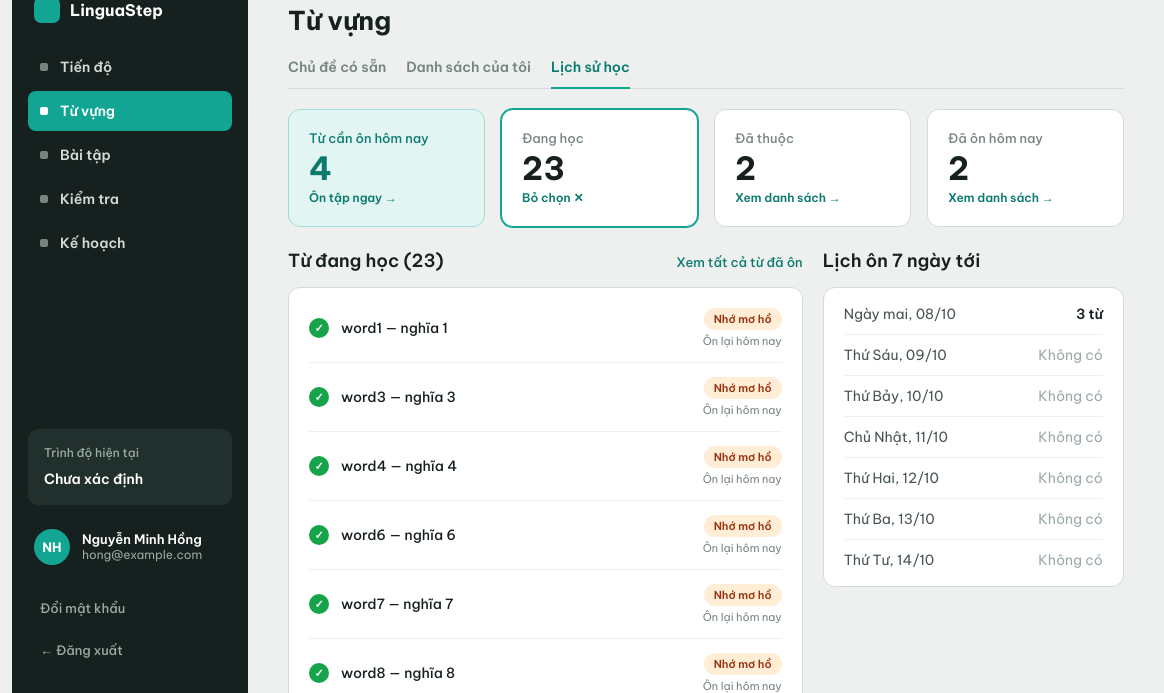
Test: history tab › shows the words being learned and the words reviewed today, from the URL or a click
Expected: the text "word1" is shown, top-left (341, 319), bottom-right (382, 337)
Expected: the text "word2" is not shown
Click the link with aria-label "Đã ôn hôm nay: 2 từ. Xem danh sách" at (1026, 168), box top-left (927, 109), bottom-right (1124, 227)
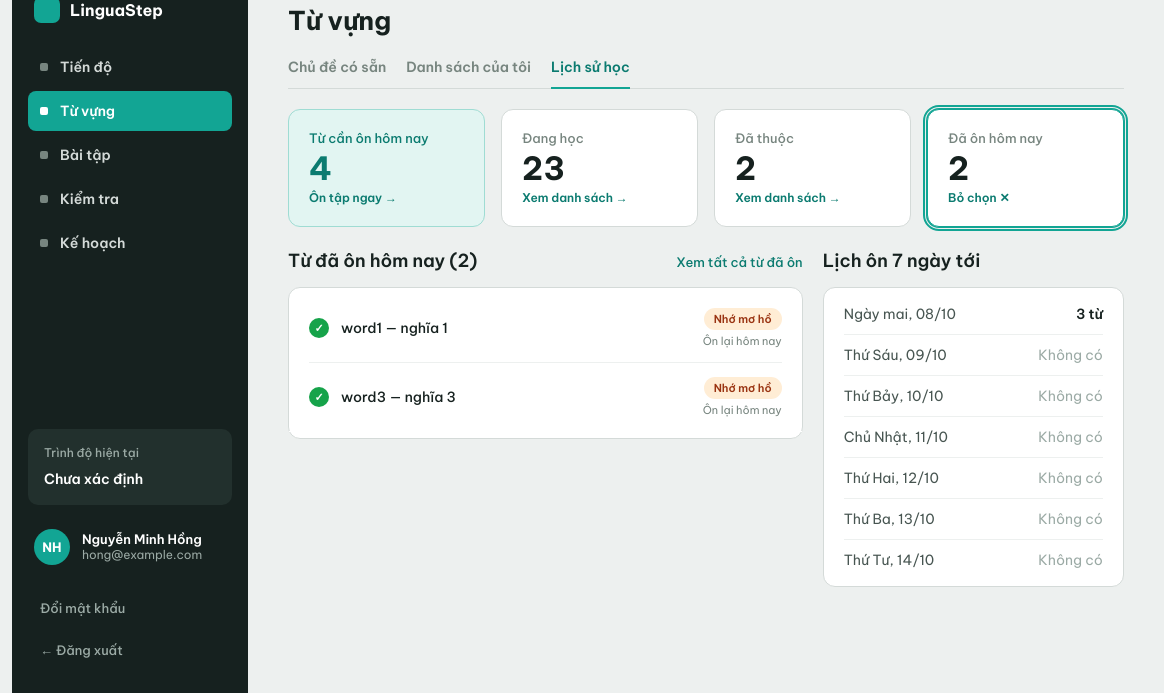
Expected: the text "word1" is shown, top-left (341, 319), bottom-right (382, 337)
Now the text "word4" is gone
Click the link "Xem tất cả từ đã ôn" at (739, 262), box top-left (676, 254), bottom-right (803, 270)
(page scrolled)
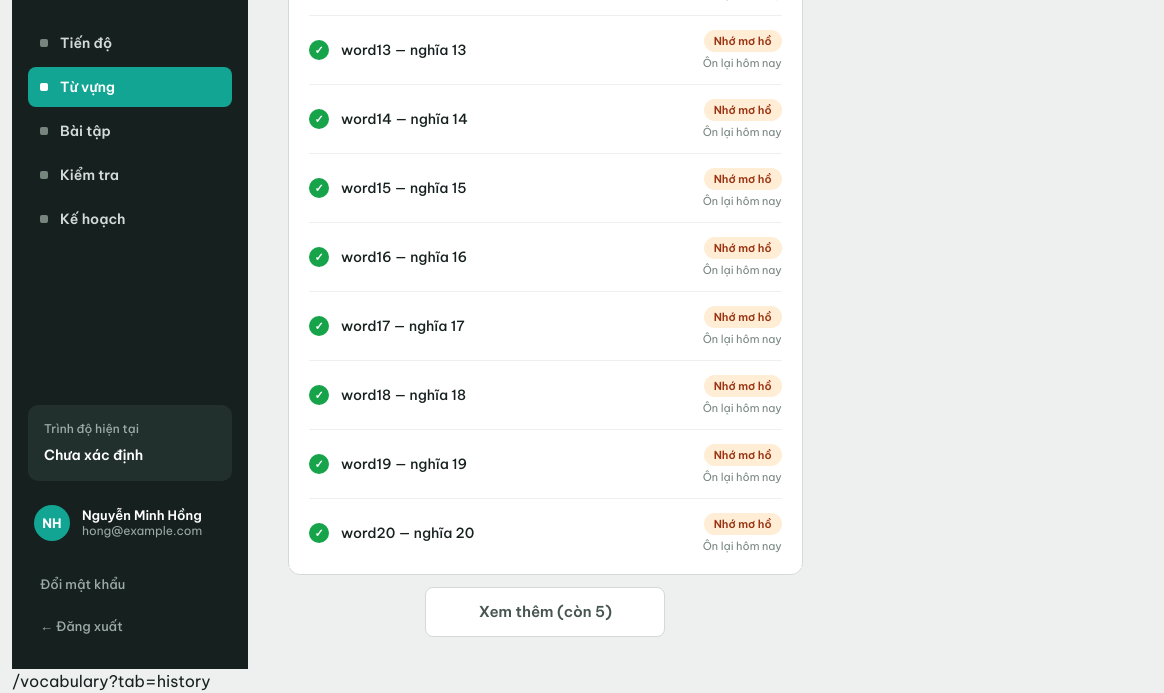
Now the button "Xem thêm (còn 5)" is shown, box top-left (425, 587), bottom-right (665, 637)
